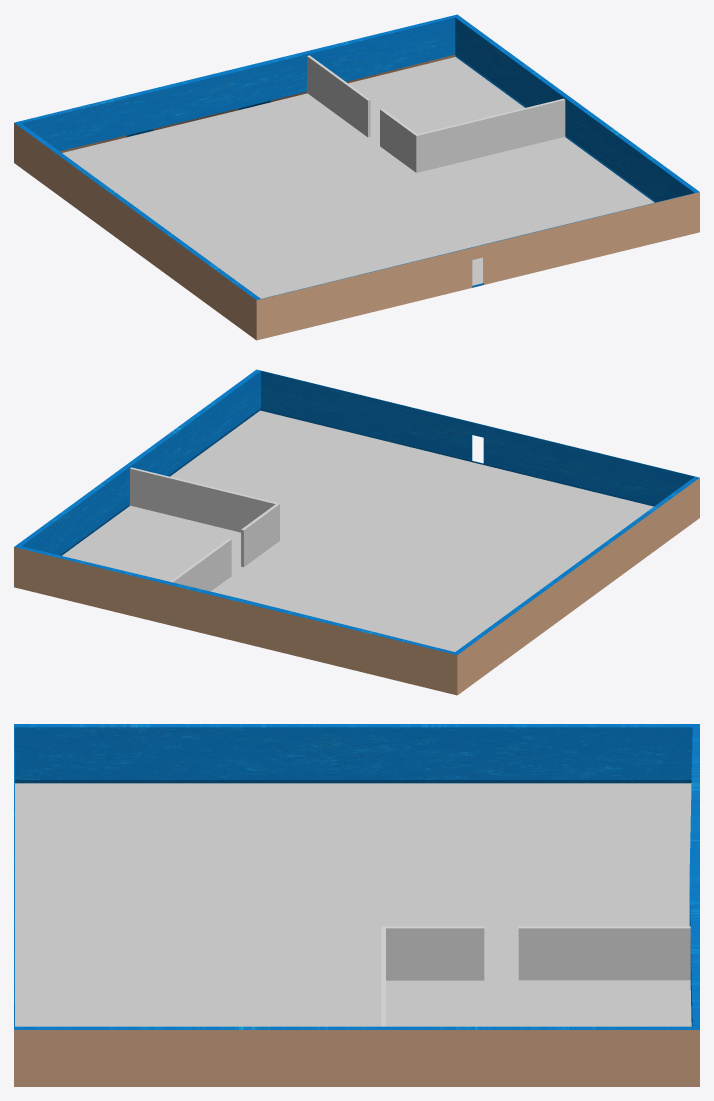
Rendered from envir.glb.
3 views of the same model, one above another, from view 1: azimuth 30°, elevation 25°; view 2: azimuth 150°, elevation 25°; view 3: azimuth 270°, elevation 25° (orthographic). The views are drawn at different scales.
Visible parts, largest first — view 1: Cube, Wall, Wall.002, Wall.001; view 2: Cube, Wall, Wall.002, Wall.001; view 3: Cube, Wall.002, Wall.001.
Boxes of the visible parts, x1,y1,x2,y2 form: Cube: [14, 14, 699, 340]; Wall: [417, 98, 565, 172]; Wall.002: [307, 55, 370, 137]; Wall.001: [380, 109, 418, 172]; Cube: [14, 369, 699, 695]; Wall: [129, 467, 278, 532]; Wall.002: [170, 538, 231, 591]; Wall.001: [241, 503, 279, 567]; Cube: [14, 724, 699, 1086]; Wall.002: [518, 926, 690, 980]; Wall.001: [382, 926, 484, 980].
Bounding box in the file's own units: 62.12 × 5.4 × 58.86.
Materials: 3 (1 with a texture image).
